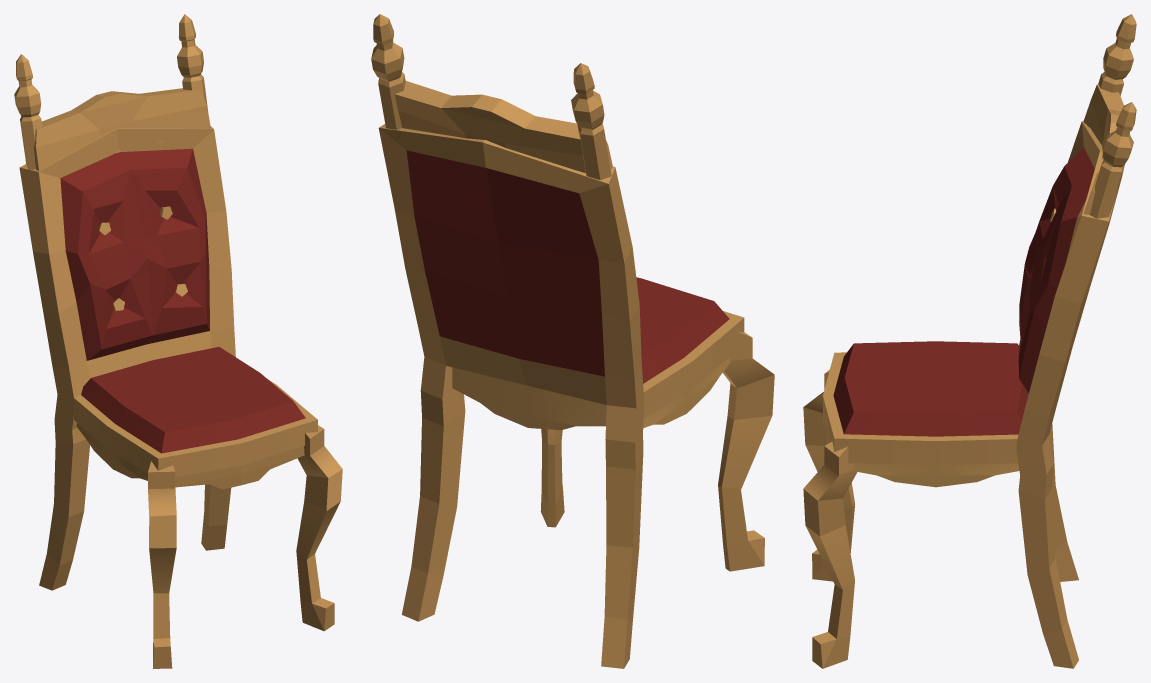
Rendered from kingdom_SM_Prop_Chair_Fancy_03.gltf.
3 views of the same model, side by side, from view 1: azimuth 30°, elevation 25°; view 2: azimuth 150°, elevation 25°; view 3: azimuth 270°, elevation 25° (orthographic). The views are drawn at different scales.
Visible parts, largest first — view 1: SM_Prop_Chair_Fancy_03; view 2: SM_Prop_Chair_Fancy_03; view 3: SM_Prop_Chair_Fancy_03.
Boxes of the visible parts, x1,y1,x2,y2 form: SM_Prop_Chair_Fancy_03: (14,14,342,668); SM_Prop_Chair_Fancy_03: (371,14,774,668); SM_Prop_Chair_Fancy_03: (803,14,1136,668).
Bounding box in the file's own units: 0.5313 × 1.34 × 0.7177.
1 material, 1 textured.
